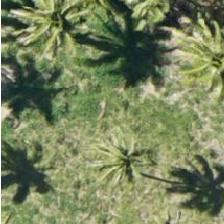Kelapa_Sawit: (73, 112, 163, 202), (16, 0, 106, 59), (176, 5, 224, 95)
